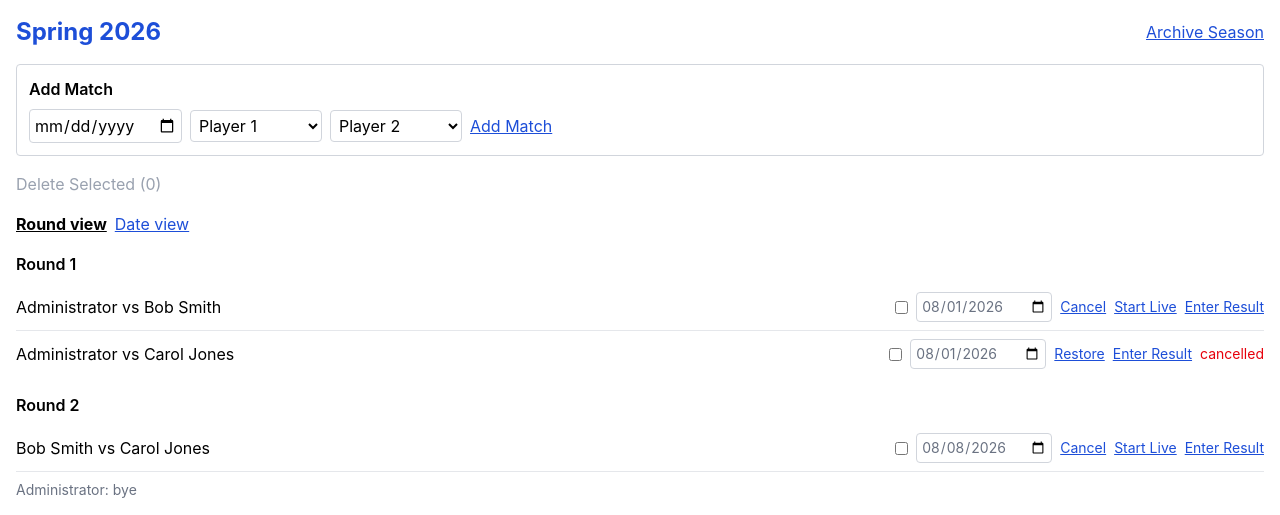
it: SeasonMatches Date view › lists every date with a match count when switching to Date view
This screenshot has width=1280, height=515.
Expected: the heading "Spring 2026" is shown, [16,16,161,48]
Click the button "Date view" at {"x": 152, "y": 224}, box [115,212,189,236]
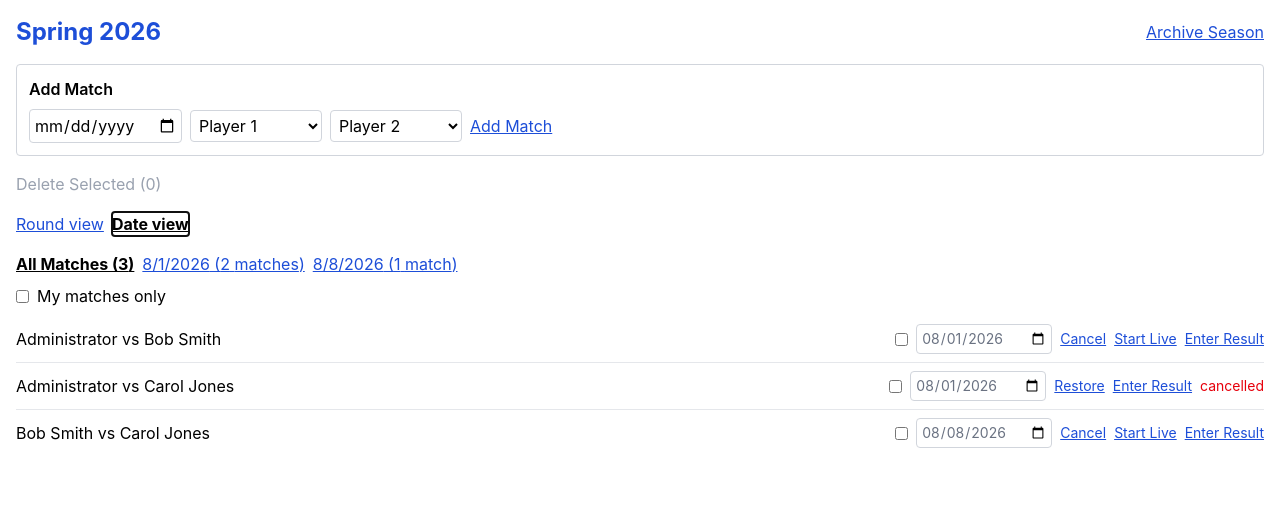
Expected: the button "All Matches (3)" is shown, [16,252,134,276]
